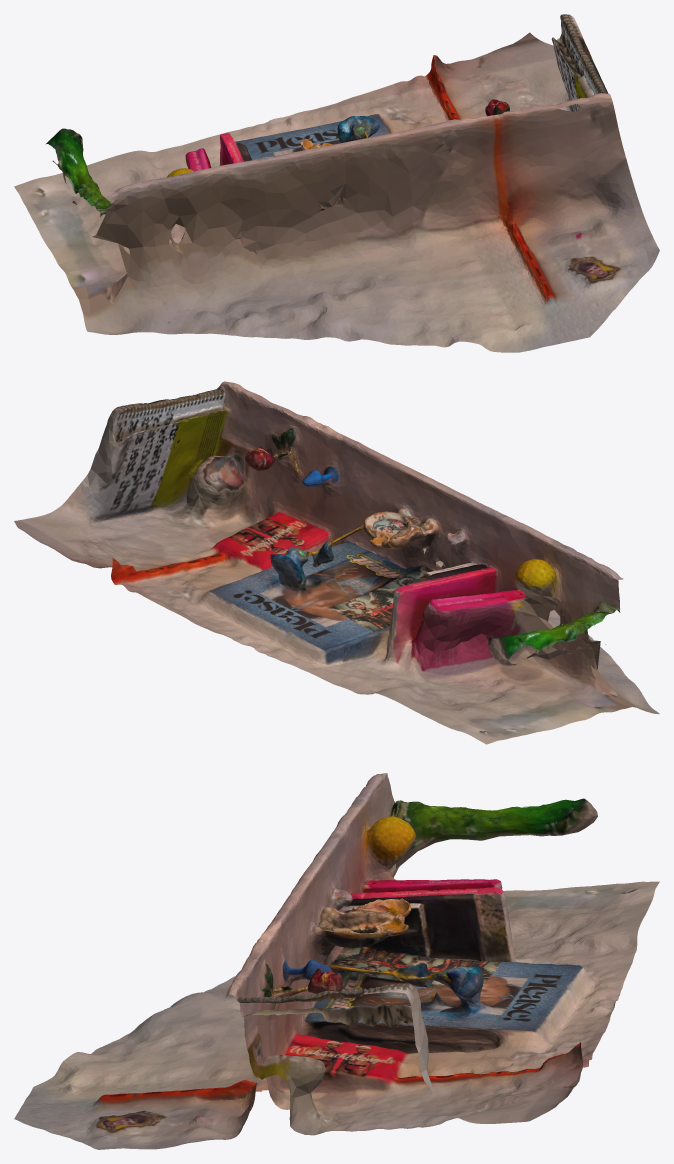
File: regal.glb
3 views of the same model, one above another, from view 1: azimuth 30°, elevation 25°; view 2: azimuth 150°, elevation 25°; view 3: azimuth 270°, elevation 25° (orthographic). The views are drawn at different scales.
Parts seen in each view (by area): view 1: world; view 2: world; view 3: world.
Boxes of the visible parts, box(x1,y1,x2,y2) form: world: box(14, 14, 659, 352); world: box(14, 381, 659, 744); world: box(14, 773, 659, 1149).
Size of the model in its own units: 2.5 by 0.8118 by 2.06.
Materials: 1 (1 with a texture image).
